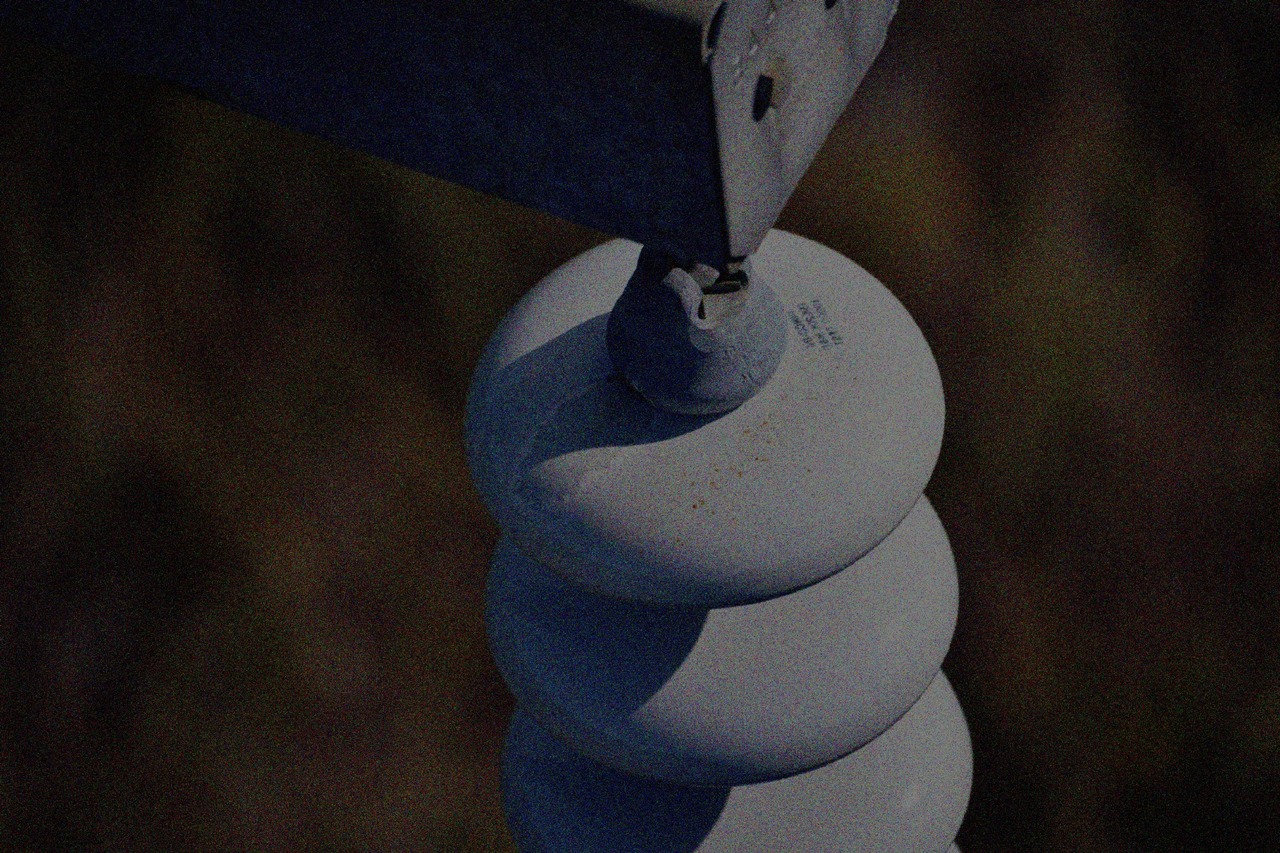Flashover damage: (462, 212, 958, 611)
No issues: (477, 526, 958, 791), (490, 676, 975, 853)
String: (451, 206, 978, 853)
